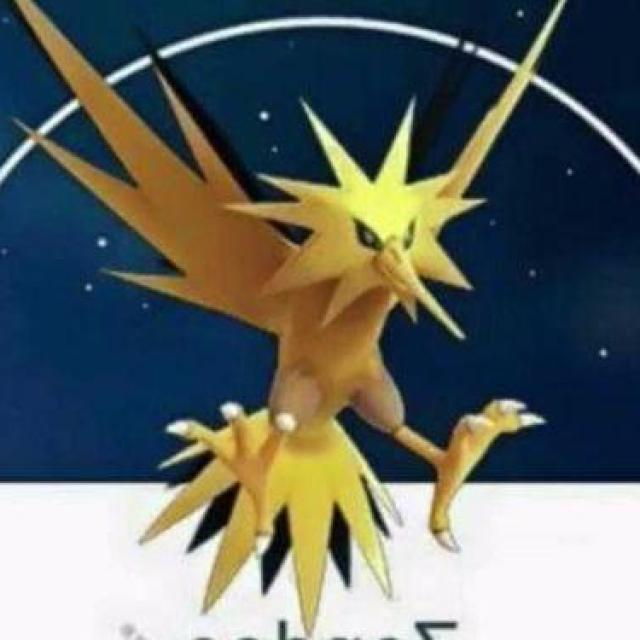Zapdos: (153, 74, 500, 626)
